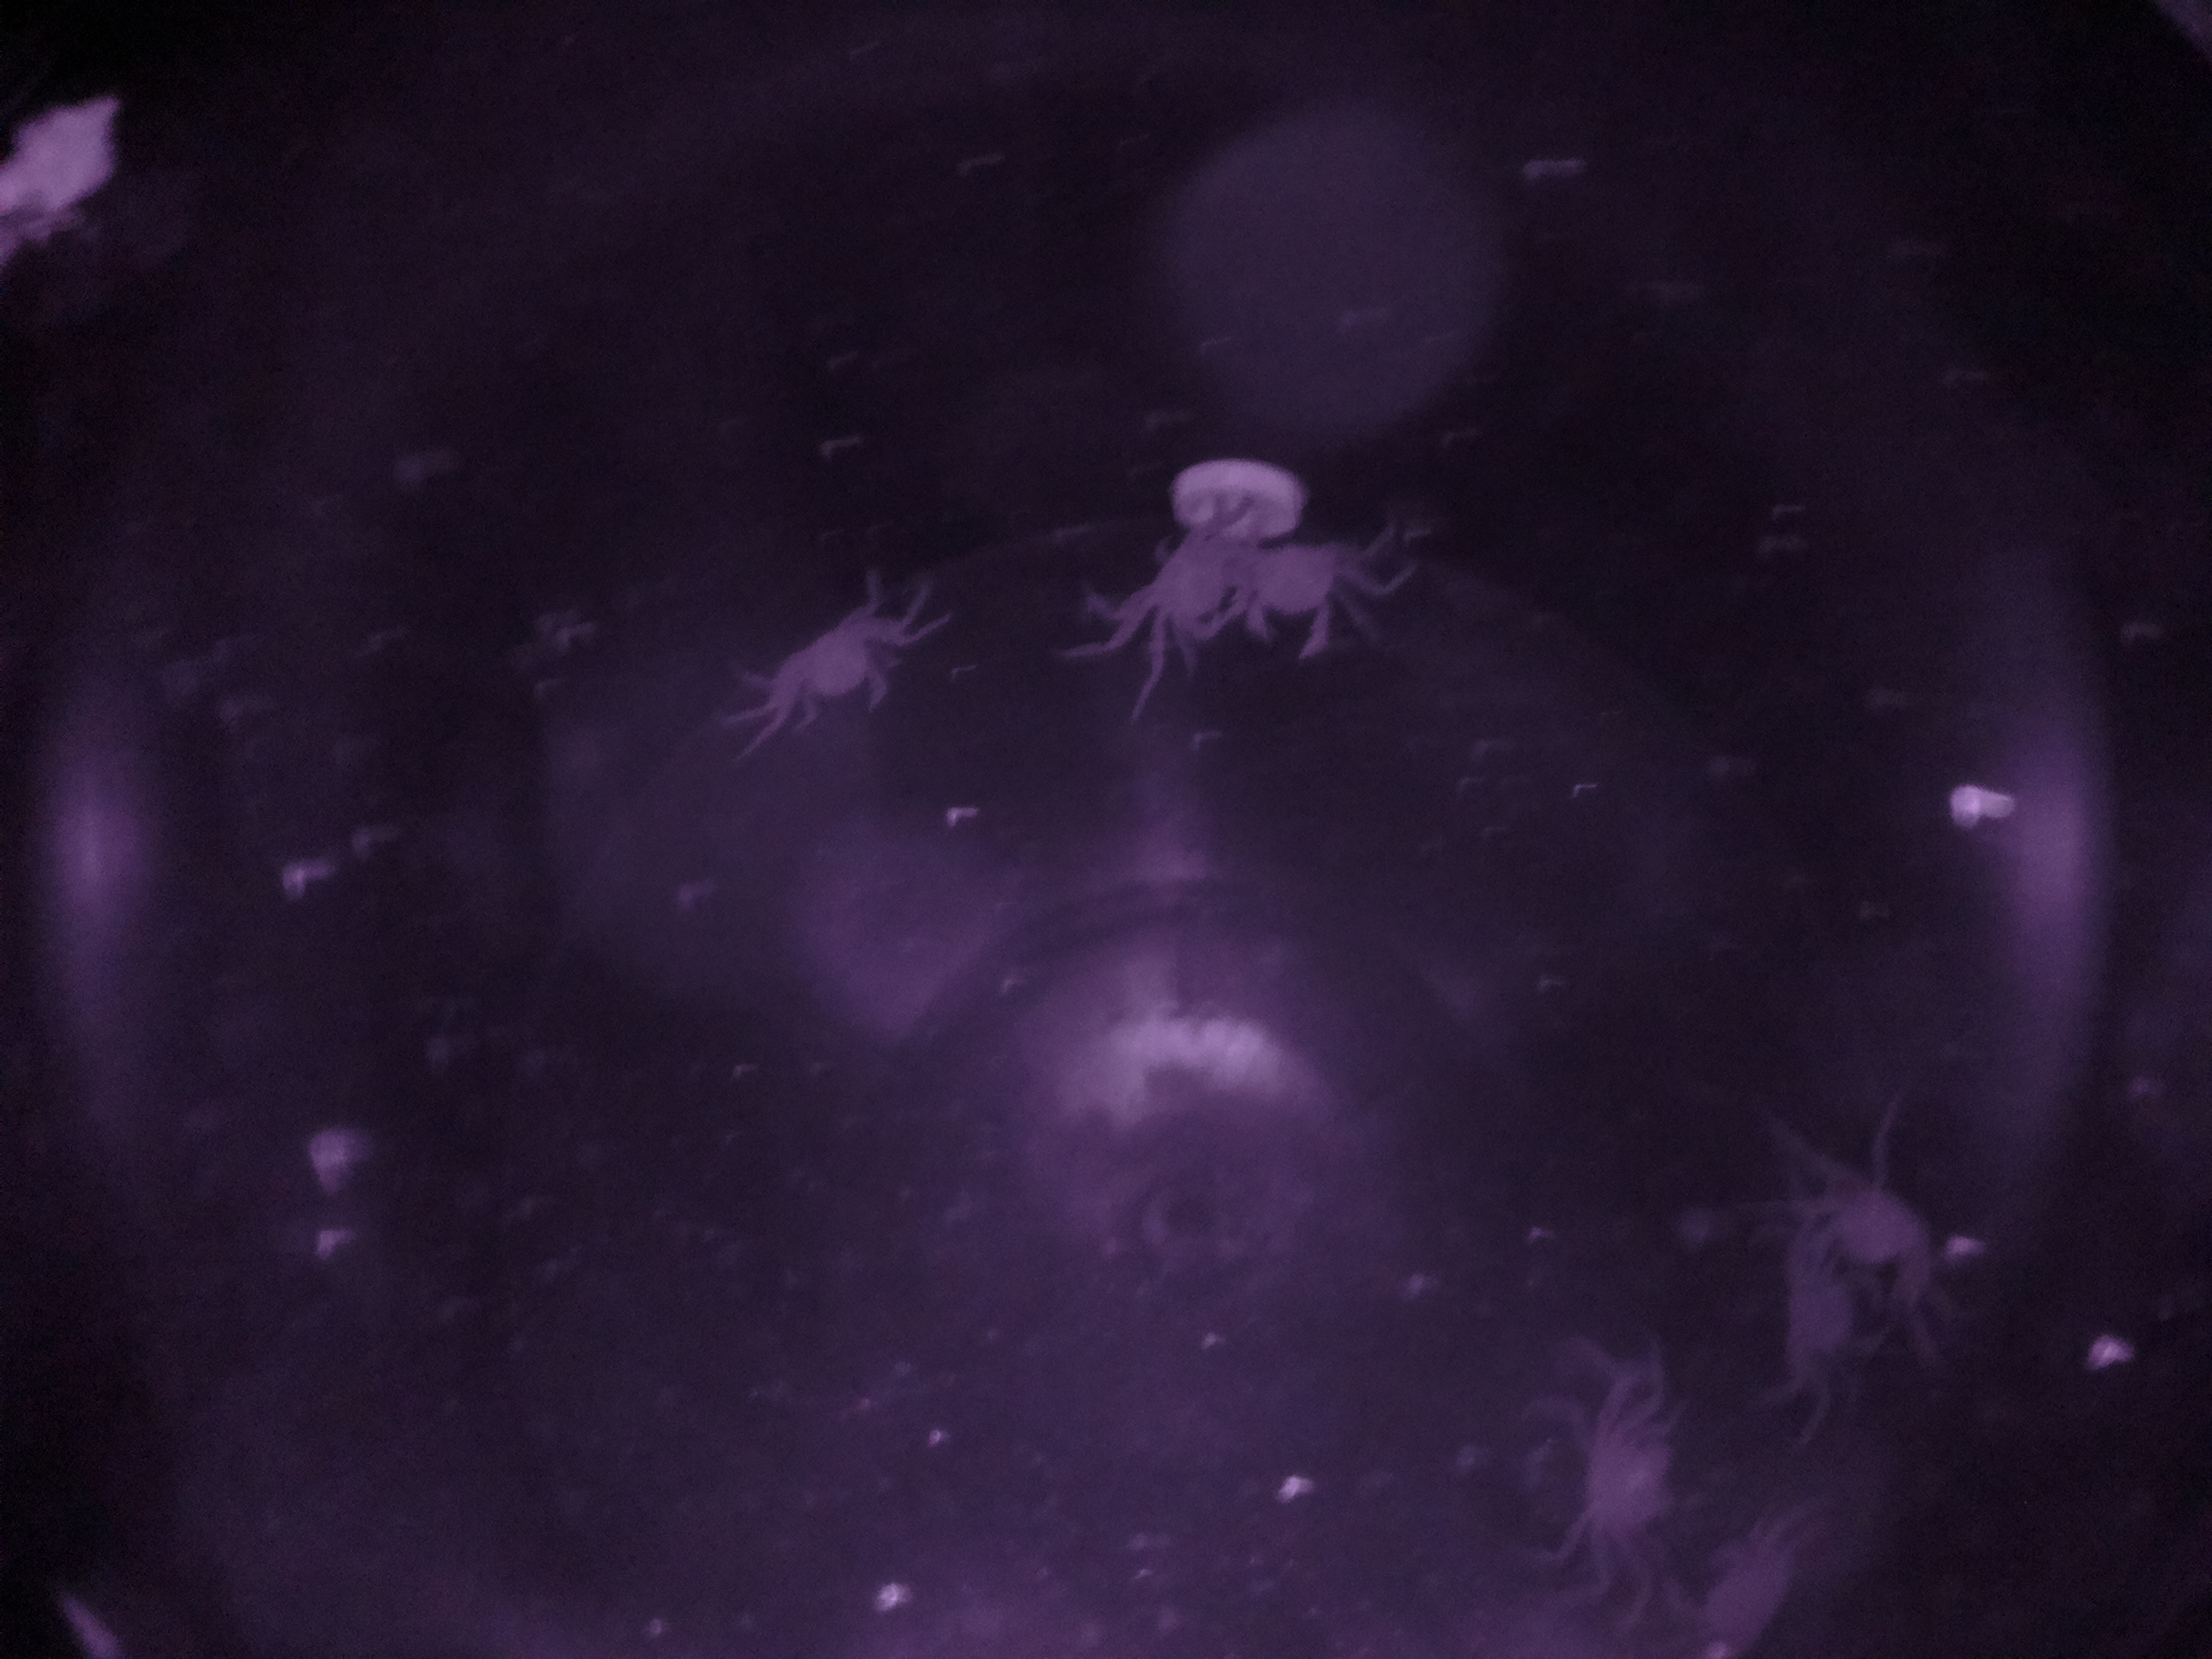Crab: (1118, 477, 1259, 655), (758, 586, 911, 735)
